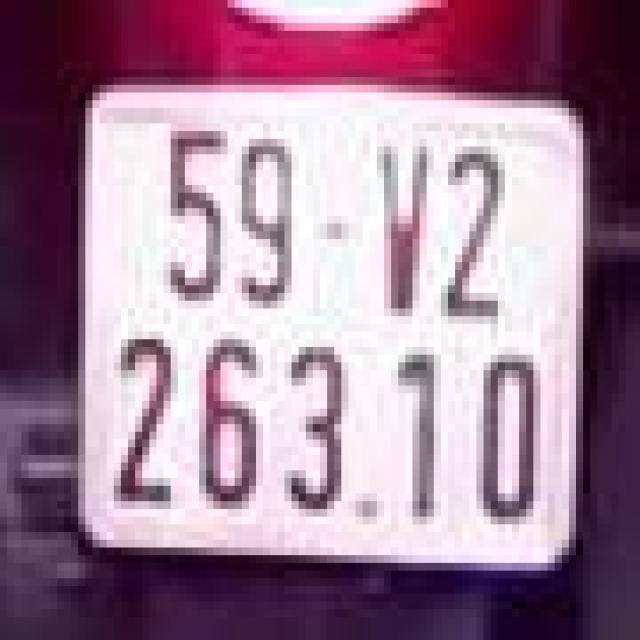0: (473, 343, 551, 528)
1: (381, 343, 452, 528)
2: (437, 142, 523, 328), (114, 332, 178, 524)
3: (278, 336, 356, 528)
5: (156, 112, 234, 304)
6: (185, 332, 263, 516)
9: (242, 135, 298, 312)
V: (362, 127, 433, 328)
